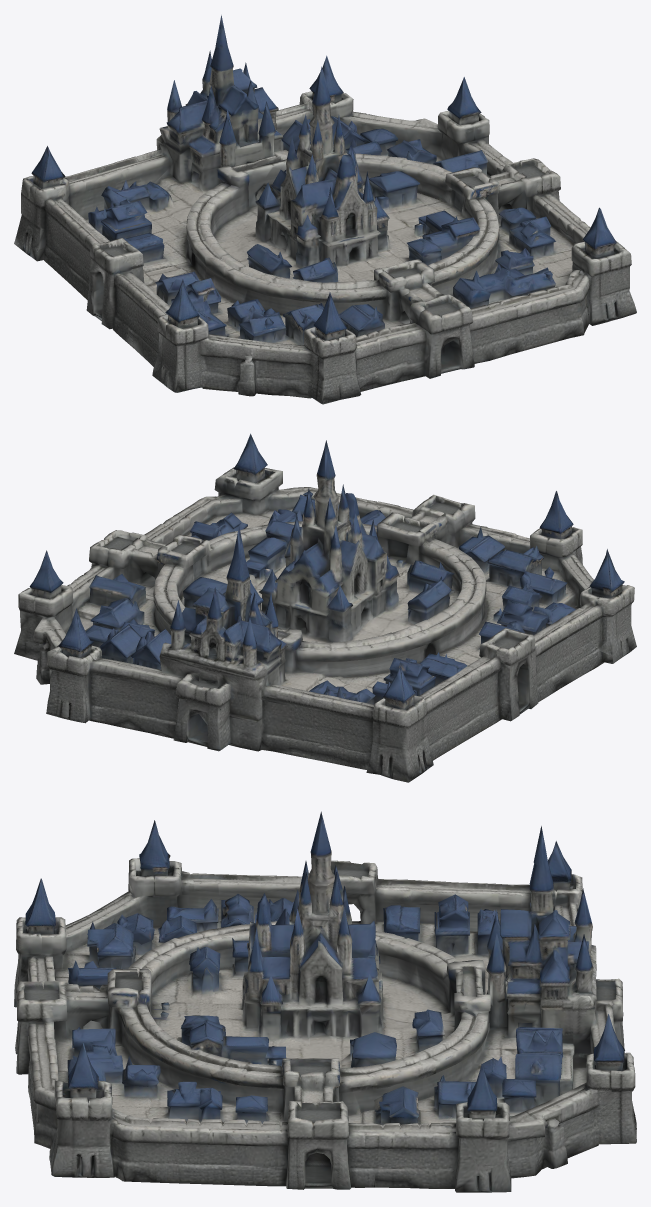
File: Люди4.glb
The picture shows the model from 3 angles, top to bottom: view 1: azimuth 30°, elevation 25°; view 2: azimuth 150°, elevation 25°; view 3: azimuth 270°, elevation 25°; orthographic projection. The views are drawn at different scales.
Visible parts, largest first — view 1: tripo_node_d1fd20f4-625c-48f8-8b09-911e37bd737e; view 2: tripo_node_d1fd20f4-625c-48f8-8b09-911e37bd737e; view 3: tripo_node_d1fd20f4-625c-48f8-8b09-911e37bd737e.
Part boxes in pixels (left/top/right/bottom): tripo_node_d1fd20f4-625c-48f8-8b09-911e37bd737e: left=14, top=15, right=636, bottom=404; tripo_node_d1fd20f4-625c-48f8-8b09-911e37bd737e: left=14, top=433, right=636, bottom=782; tripo_node_d1fd20f4-625c-48f8-8b09-911e37bd737e: left=14, top=811, right=636, bottom=1192.
Bounding box in the file's own units: 1 × 0.4547 × 0.9978.
Materials: 1 (1 with a texture image).
